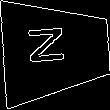N_E: (34, 29, 78, 72)
